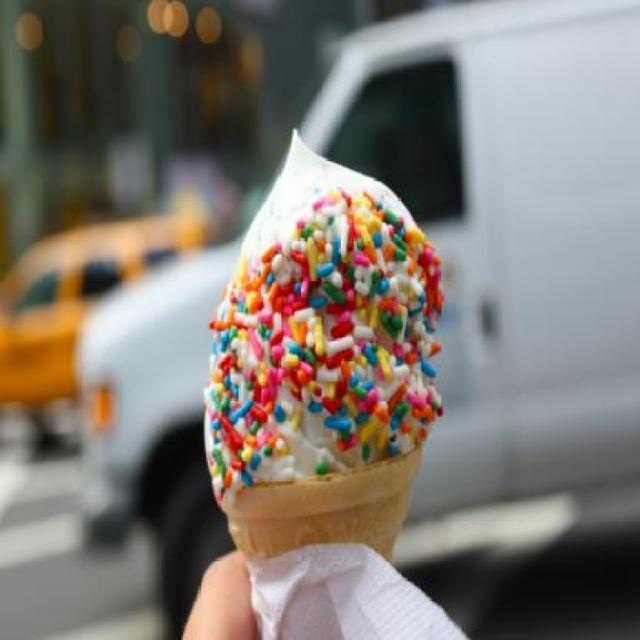Ice cream: (190, 163, 464, 617)
